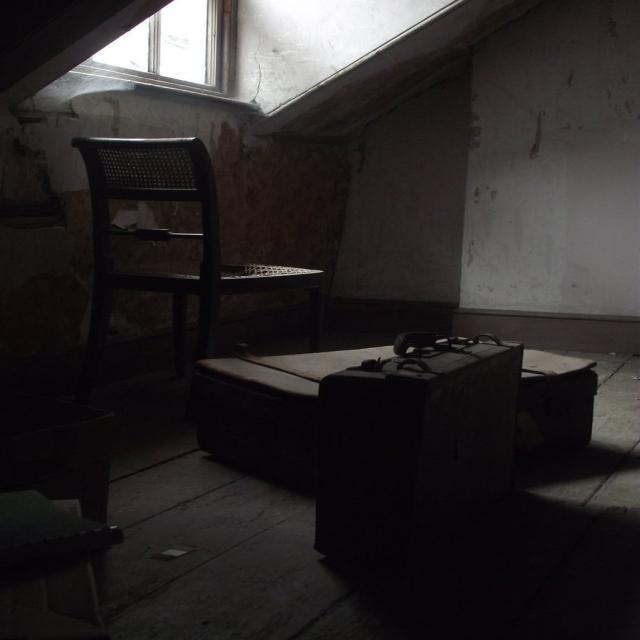chair: (92, 59, 329, 510)
